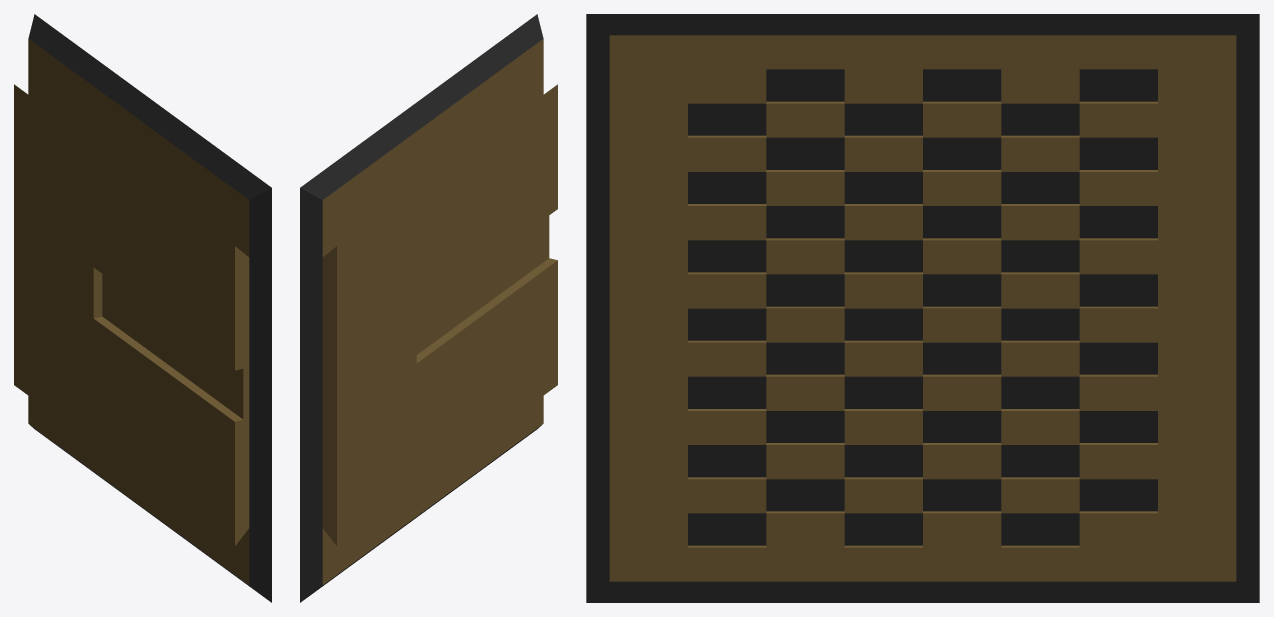
File: side panel.obj
3 renders of one model, left to right at view 1: azimuth 30°, elevation 25°; view 2: azimuth 150°, elevation 25°; view 3: azimuth 270°, elevation 25°, orthographic. The views are drawn at different scales.
Visible parts, largest first — view 1: Body40, Body21, Body20, Body38; view 2: Body40, Body21, Body20, Body38; view 3: Body20, Body41, Body21.
Boxes of the visible parts, box(x1,y1,x2,y2) form: Body40: box(14, 84, 249, 546); Body21: box(28, 14, 271, 602); Body20: box(28, 39, 249, 584); Body38: box(56, 83, 221, 540); Body40: box(322, 84, 557, 546); Body21: box(300, 14, 543, 602); Body20: box(322, 39, 543, 584); Body38: box(350, 103, 515, 520); Body20: box(609, 35, 1236, 581); Body41: box(688, 69, 1157, 545); Body21: box(586, 14, 1259, 602).
Size of the model in its own units: 10 by 138 by 143.
